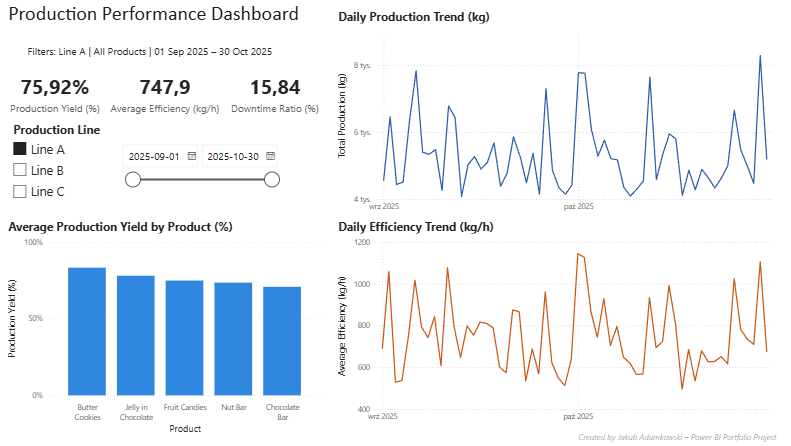

The page's visual inventory and layout, read from the dashboard file:
{"tool":"powerbi","page":{"name":"Strona 1","canvas":[1280,720],"ordinal":0},"visuals":[{"type":"textbox","box":[16,0,480,64],"z":0},{"type":"card","fields":{"Values":["Sheet1.Avg_Efficiency"]},"box":[176,112,192,80],"z":1000},{"type":"lineChart","title":"Daily Production Trend (kg)","fields":{"Category":["Sheet1.Date.Odmiana.Hierarchia dat.Rok","Sheet1.Date.Odmiana.Hierarchia dat.Kwartał","Sheet1.Date.Odmiana.Hierarchia dat.Miesiąc","Sheet1.Date.Odmiana.Hierarchia dat.Dzień"],"Y":["Sheet1.Total Production"]},"box":[544,16,720,336],"z":2000},{"type":"lineChart","title":"Daily Efficiency Trend (kg/h)","fields":{"Category":["Sheet1.Date.Odmiana.Hierarchia dat.Rok","Sheet1.Date.Odmiana.Hierarchia dat.Kwartał","Sheet1.Date.Odmiana.Hierarchia dat.Miesiąc","Sheet1.Date.Odmiana.Hierarchia dat.Dzień"],"Y":["Sheet1.Average Efficiency (kg/h)"]},"box":[544,352,720,336],"z":3000},{"type":"slicer","fields":{"Values":["Sheet1.Production_Line"]},"box":[16,192,208,144],"z":4000},{"type":"slicer","fields":{"Values":["Sheet1.Date"]},"box":[192,224,272,80],"z":5000},{"type":"columnChart","title":"Average Production Yield by Product (%)","fields":{"Category":["Sheet1.Product"],"Y":["Sheet1.Yield (%)"]},"box":[16,352,512,352],"z":6000},{"type":"card","fields":{"Values":["Sheet1.Yield (%)"]},"box":[16,112,160,80],"z":7000},{"type":"card","fields":{"Values":["Sheet1.Downtime Ratio (%)"]},"box":[368,112,160,80],"z":8000},{"type":"card","fields":{"Values":["Sheet1.Filters Summary"]},"box":[0,64,496,48],"z":9000},{"type":"textbox","box":[928,688,336,32],"z":10000}]}

Visuals, with their boxes in screenshot pixels (x1, y1, x2, y2), scaled from the page's 1280x720 canvas onto the 791x446 screenshot:
textbox: {"left": 10, "top": 0, "right": 307, "bottom": 40}
card - Sheet1.Avg_Efficiency: {"left": 109, "top": 69, "right": 227, "bottom": 119}
"Daily Production Trend (kg)" lineChart: {"left": 336, "top": 10, "right": 781, "bottom": 218}
"Daily Efficiency Trend (kg/h)" lineChart: {"left": 336, "top": 218, "right": 781, "bottom": 426}
slicer - Sheet1.Production_Line: {"left": 10, "top": 119, "right": 138, "bottom": 208}
slicer - Sheet1.Date: {"left": 119, "top": 139, "right": 287, "bottom": 188}
"Average Production Yield by Product (%)" columnChart: {"left": 10, "top": 218, "right": 326, "bottom": 436}
card - Sheet1.Yield (%): {"left": 10, "top": 69, "right": 109, "bottom": 119}
card - Sheet1.Downtime Ratio (%): {"left": 227, "top": 69, "right": 326, "bottom": 119}
card - Sheet1.Filters Summary: {"left": 0, "top": 40, "right": 307, "bottom": 69}
textbox: {"left": 573, "top": 426, "right": 781, "bottom": 445}
